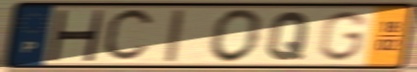C: (100, 5, 158, 66)
G: (314, 9, 370, 64)
H: (45, 8, 107, 63)
I: (162, 8, 187, 64)
O: (208, 7, 266, 65)
Q: (265, 10, 313, 62)
